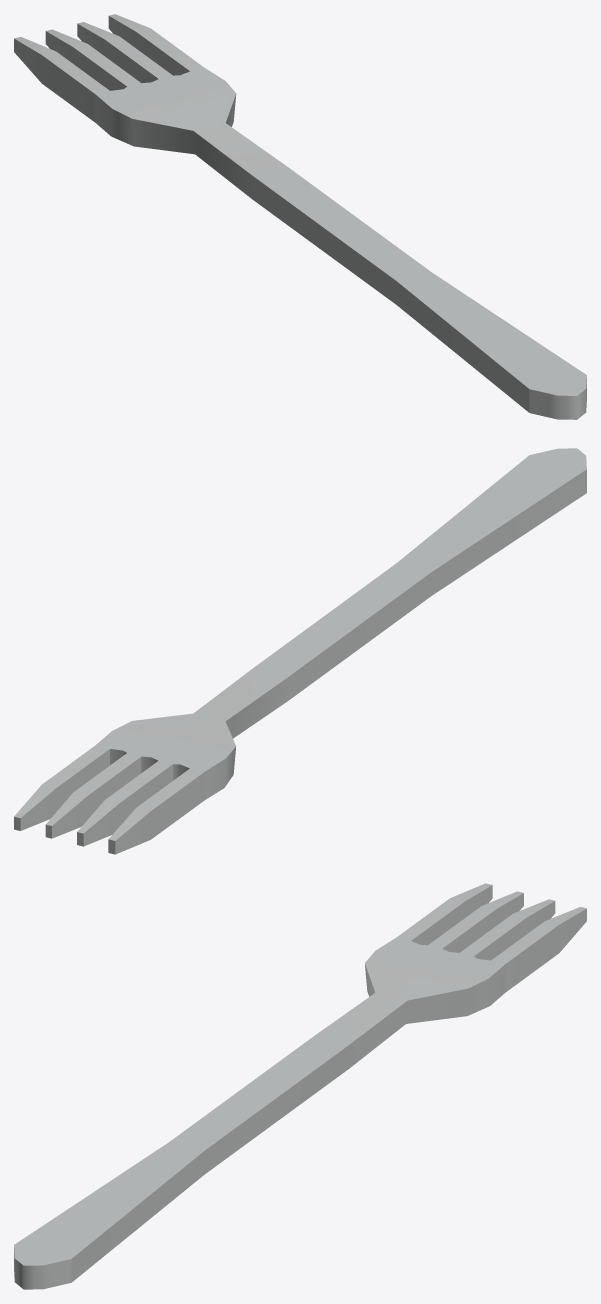
File: Fork.fbx
3 views of the same model, one above another, from view 1: azimuth 30°, elevation 25°; view 2: azimuth 150°, elevation 25°; view 3: azimuth 330°, elevation 25° (orthographic).
Parts seen in each view (by area): view 1: Fork; view 2: Fork; view 3: Fork.
Boxes of the visible parts, bbox=[...] form: Fork: bbox=[14, 14, 586, 419]; Fork: bbox=[14, 448, 586, 854]; Fork: bbox=[14, 883, 586, 1289].
Bounding box in the file's own units: 0.0416 × 0.01 × 0.3257.
